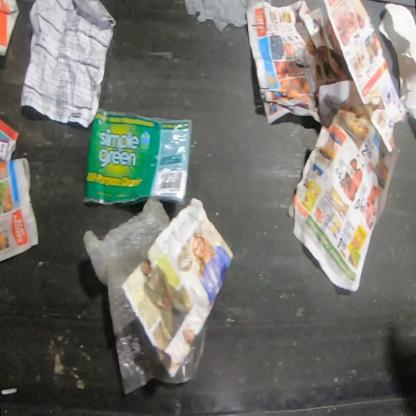rigid_plastic: (0, 0, 20, 58)
soft_plastic: (82, 200, 206, 395), (82, 108, 193, 209)
